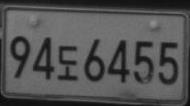4: (106, 39, 130, 83), (32, 36, 55, 79)
5: (157, 41, 179, 85), (133, 40, 154, 84)
6: (83, 39, 105, 82)
9: (9, 35, 31, 79)
도: (57, 45, 79, 80)
